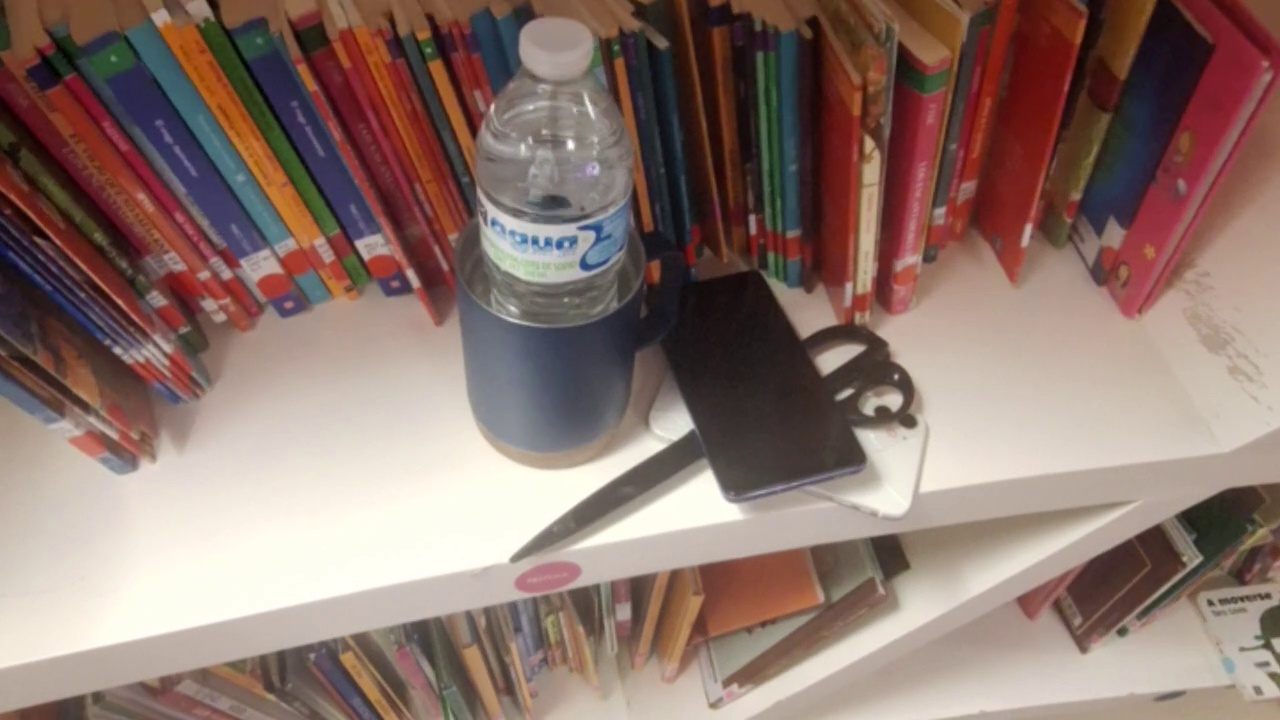botella: (454, 16, 648, 472)
